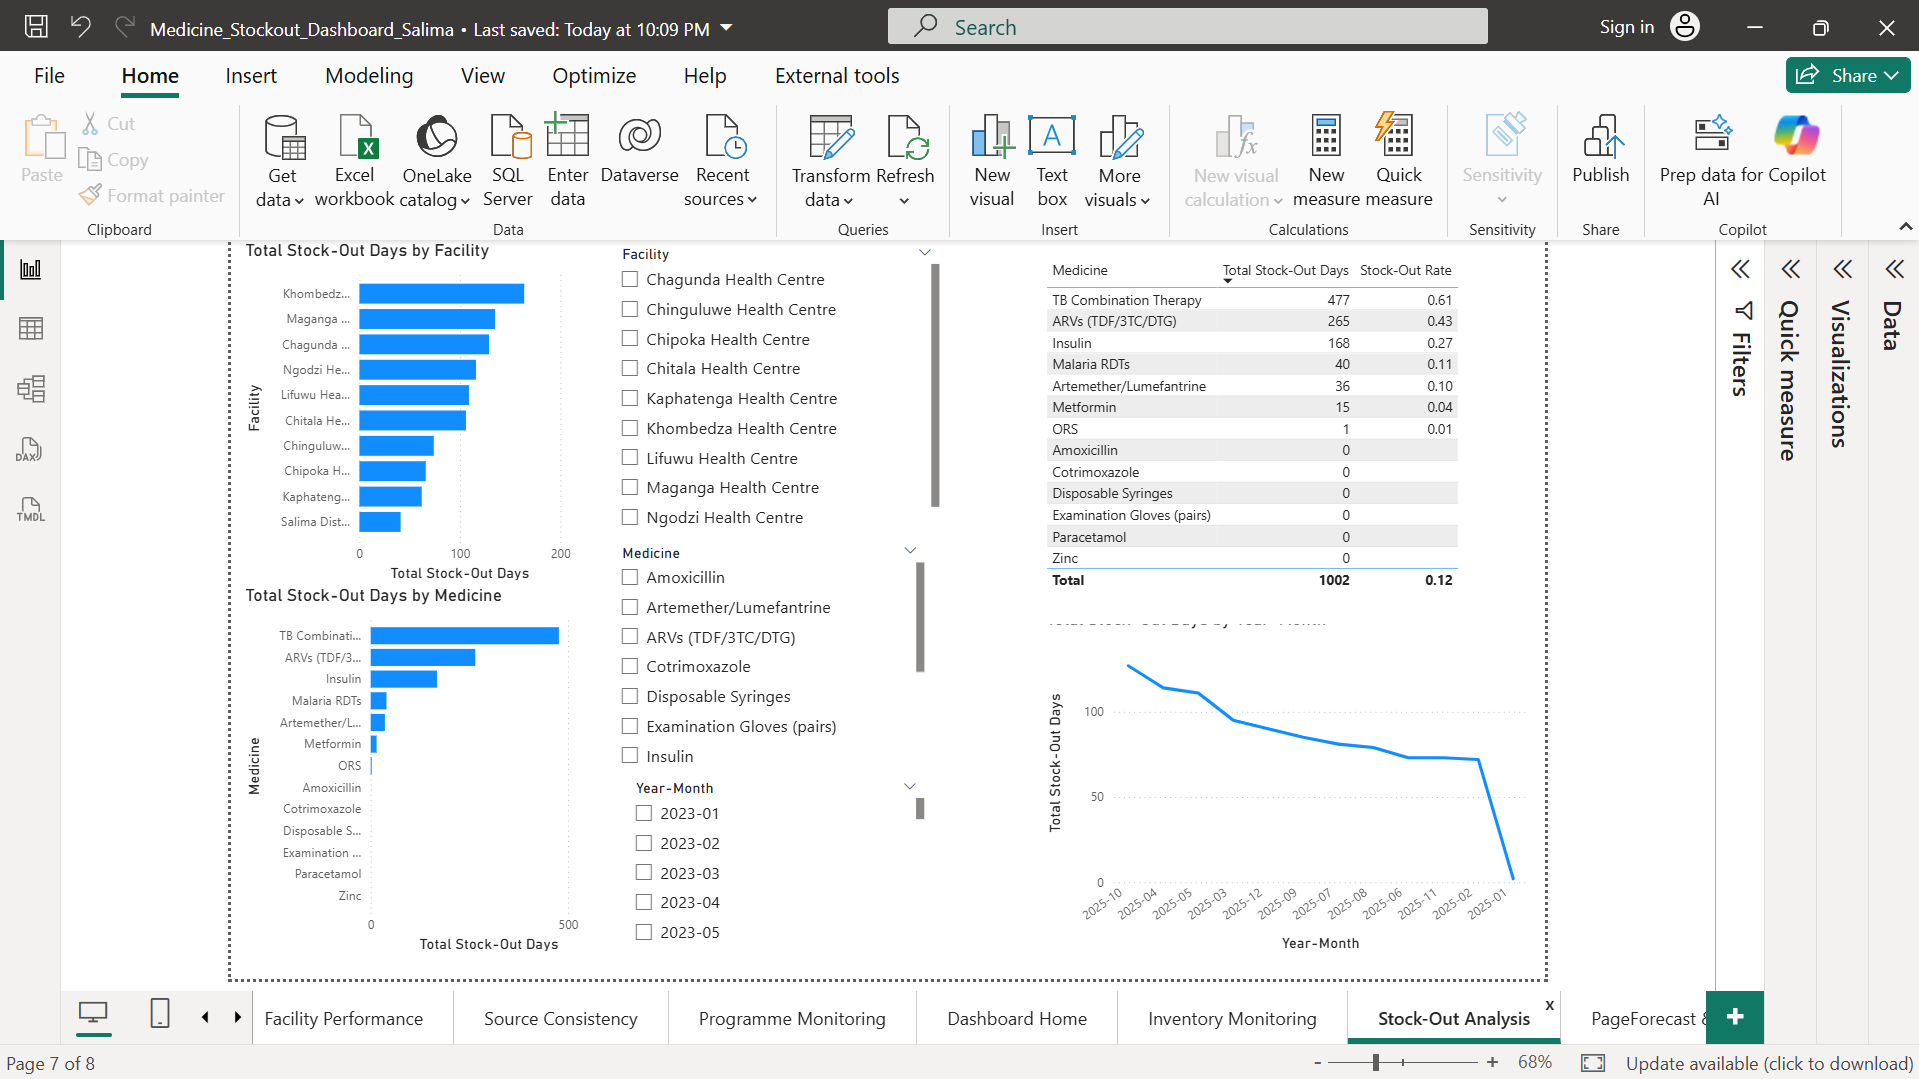

This screenshot's page, from the dashboard's own definition file:
{"tool":"powerbi","page":{"name":"Stock-Out Analysis","canvas":[1280,720],"ordinal":6},"visuals":[{"type":"clusteredBarChart","fields":{"Category":["monthly_stock_summary_clean.Facility"],"Y":["monthly_stock_summary_clean.Total Stock-Out Days"]},"box":[9.5,0,326.8,336.3],"z":0},{"type":"clusteredBarChart","fields":{"Category":["monthly_stock_summary_clean.Medicine"],"Y":["monthly_stock_summary_clean.Total Stock-Out Days"]},"box":[9.5,336.3,372.6,361.6],"z":1000},{"type":"lineChart","fields":{"Category":["Calendar.Year-Month"],"Y":["monthly_stock_summary_clean.Total Stock-Out Days"]},"box":[789.5,360,478.4,337.9],"z":2000},{"type":"tableEx","fields":{"Values":["monthly_stock_summary_clean.Medicine","monthly_stock_summary_clean.Total Stock-Out Days","monthly_stock_summary_clean.Stock-Out Rate"]},"box":[789.5,12.6,491.1,361.6],"z":3000},{"type":"slicer","fields":{"Values":["monthly_stock_summary_clean.Facility"]},"box":[367.9,0,326.8,290.5],"z":4000},{"type":"slicer","fields":{"Values":["monthly_stock_summary_clean.Medicine"]},"box":[367.9,290.5,312.6,229],"z":5000},{"type":"slicer","fields":{"Values":["Calendar.Year-Month"]},"box":[382,520,299,178],"z":6000}]}

Visuals, with their boxes on the page's 1280x720 design canvas (x1, y1, x2, y2). These are canvas units, not pixel positions in the 1919x1079 screenshot, which may show the page scaled, cropped or inside an application window:
clusteredBarChart - monthly_stock_summary_clean.Facility x monthly_stock_summary_clean.Total Stock-Out Days: 10, 0, 336, 336
clusteredBarChart - monthly_stock_summary_clean.Medicine x monthly_stock_summary_clean.Total Stock-Out Days: 10, 336, 382, 698
lineChart - Calendar.Year-Month x monthly_stock_summary_clean.Total Stock-Out Days: 790, 360, 1268, 698
tableEx - monthly_stock_summary_clean.Medicine x monthly_stock_summary_clean.Total Stock-Out Days: 790, 13, 1281, 374
slicer - monthly_stock_summary_clean.Facility: 368, 0, 695, 290
slicer - monthly_stock_summary_clean.Medicine: 368, 290, 680, 520
slicer - Calendar.Year-Month: 382, 520, 681, 698
